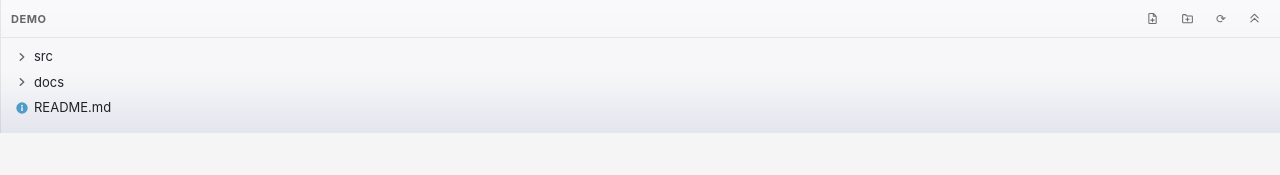
it: DocumentTree › collapses all expanded directories while keeping the root open
Click the button "docs": (49, 82) [9,70,1272,95]
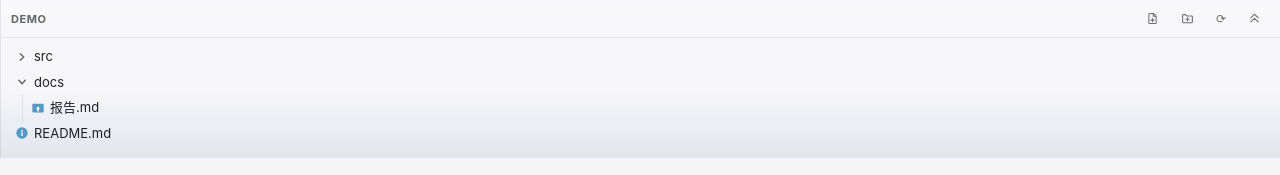
Now the text "报告.md" is shown, box [50,99,99,117]
Click the button named "折叠全部": (1254, 18) [1239,8,1270,29]
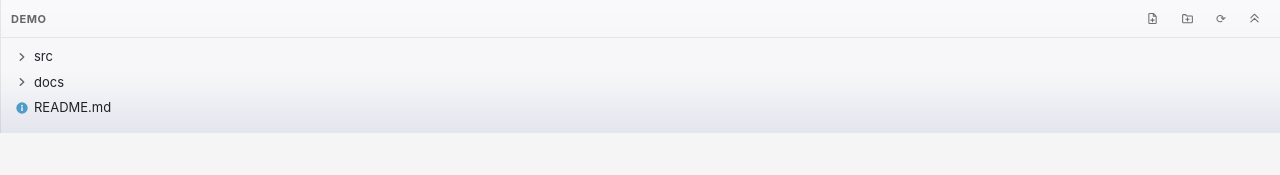
Expected: the text "docs" is shown, [34,74,64,91]
Now the button "报告.md" is gone
